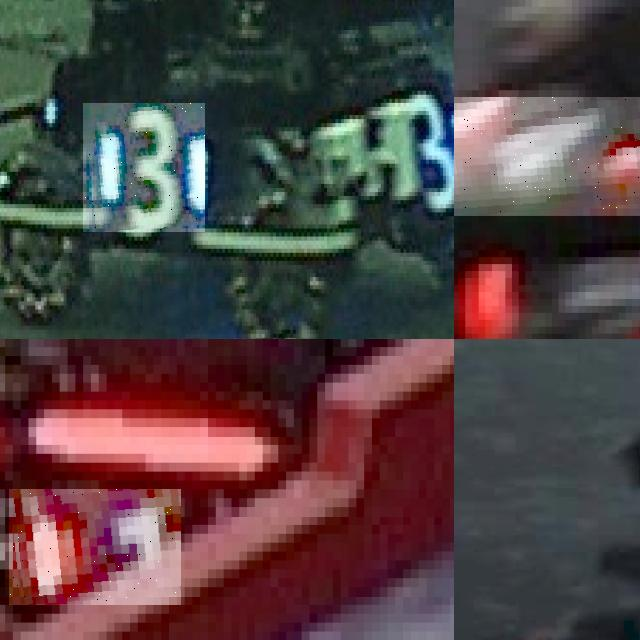B3: (84, 103, 205, 232)
R1: (9, 489, 181, 605)
R4: (454, 97, 640, 215)
